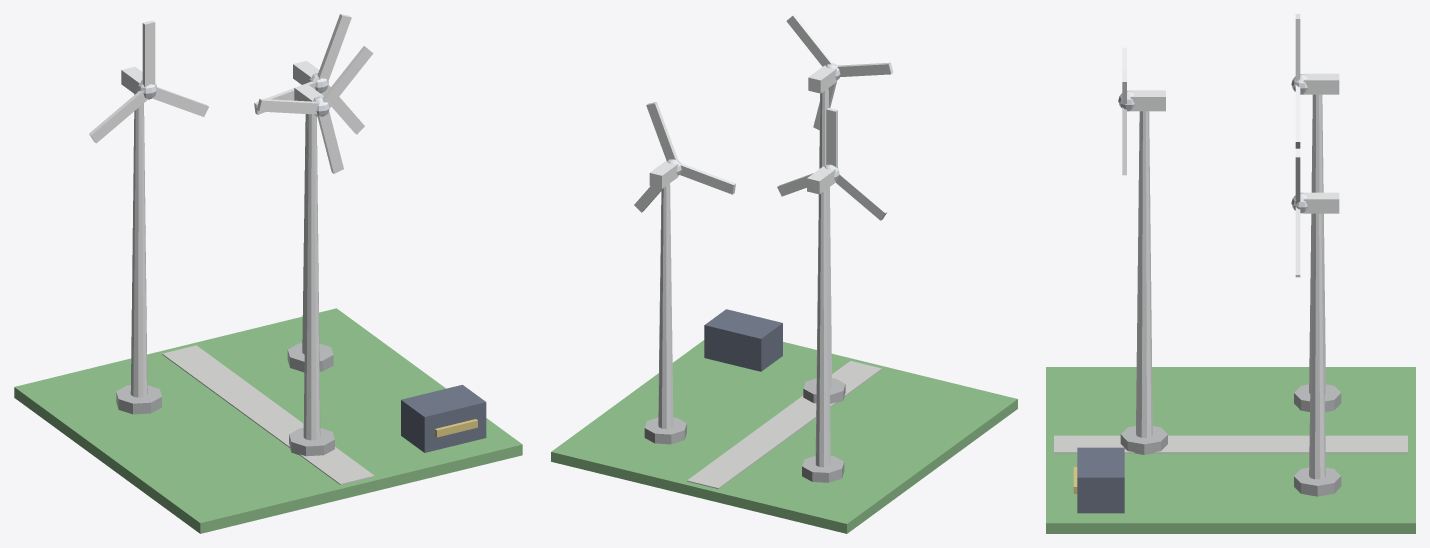
The model's file is wind_farm.glb.
The picture shows the model from 3 angles, left to right: view 1: azimuth 30°, elevation 25°; view 2: azimuth 150°, elevation 25°; view 3: azimuth 270°, elevation 25°; orthographic projection. The views are drawn at different scales.
Parts seen in each view (by area): view 1: wind_farm_body, Rotor_0, Rotor_2, Rotor_1; view 2: wind_farm_body, Rotor_0, Rotor_1, Rotor_2; view 3: wind_farm_body, Rotor_0, Rotor_1, Rotor_2.
Part boxes in pixels (x1=…): wind_farm_body: x1=14, y1=61, x2=522, y2=533; Rotor_0: x1=89, y1=20, x2=208, y2=143; Rotor_2: x1=256, y1=46, x2=373, y2=173; Rotor_1: x1=254, y1=14, x2=364, y2=134; wind_farm_body: x1=551, y1=65, x2=1017, y2=533; Rotor_0: x1=777, y1=108, x2=887, y2=220; Rotor_1: x1=634, y1=102, x2=735, y2=212; Rotor_2: x1=786, y1=14, x2=893, y2=130; wind_farm_body: x1=1046, y1=73, x2=1415, y2=533; Rotor_0: x1=1291, y1=14, x2=1307, y2=148; Rotor_1: x1=1291, y1=148, x2=1307, y2=277; Rotor_2: x1=1118, y1=47, x2=1134, y2=175.
Size of the model in its own units: 0.94 by 1.14 by 0.94.
